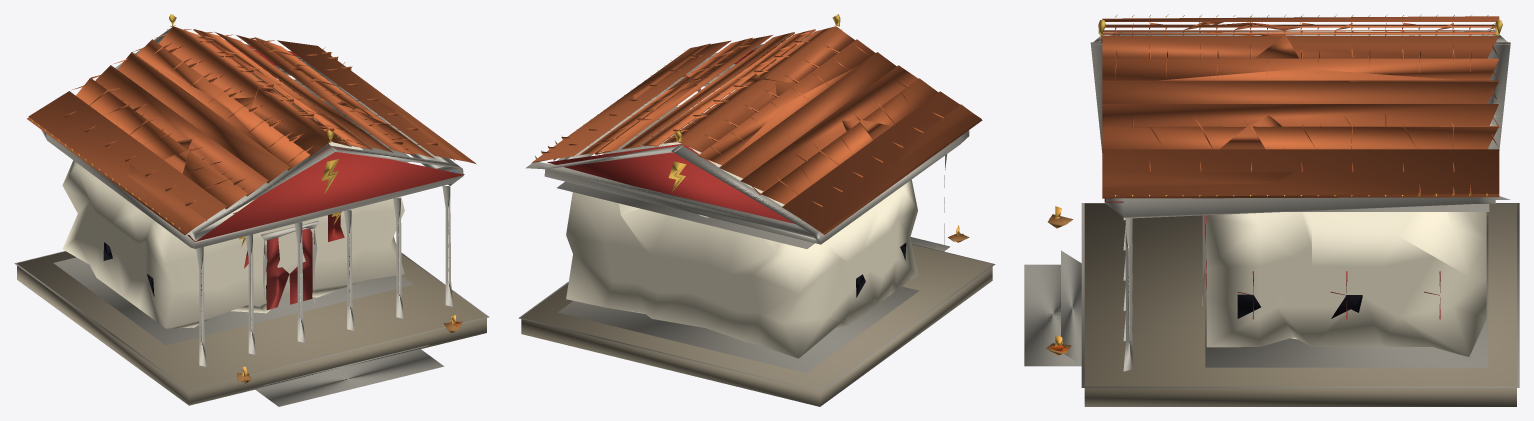
The model's file is civic_council-hall.glb.
3 views of the same model, side by side, from view 1: azimuth 30°, elevation 25°; view 2: azimuth 150°, elevation 25°; view 3: azimuth 270°, elevation 25° (orthographic). The views are drawn at different scales.
Parts seen in each view (by area): view 1: stone, cream, terracotta1, marble, terracotta0, terracotta2, paint_red, step, red_wood, gold; view 2: cream, terracotta1, stone, marble, terracotta0, terracotta2, paint_red, step, gold; view 3: stone, cream, terracotta1, terracotta0, terracotta2, marble, step, dark.
Boxes of the visible parts, <box> form: stone: <box>17,251,486,405</box>; cream: <box>62,118,404,328</box>; terracotta1: <box>28,29,475,234</box>; marble: <box>41,28,463,366</box>; terracotta0: <box>27,26,475,234</box>; terracotta2: <box>76,29,454,221</box>; paint_red: <box>188,40,464,241</box>; step: <box>14,251,489,406</box>; red_wood: <box>266,229,312,310</box>; gold: <box>31,14,352,247</box>; cream: <box>566,121,917,358</box>; terracotta1: <box>533,29,981,232</box>; stone: <box>521,244,992,406</box>; marble: <box>525,29,969,373</box>; terracotta0: <box>531,26,982,234</box>; terracotta2: <box>548,29,938,220</box>; paint_red: <box>547,45,795,223</box>; step: <box>518,237,995,391</box>; gold: <box>534,14,840,192</box>; stone: <box>1084,203,1516,406</box>; cream: <box>1206,212,1486,356</box>; terracotta1: <box>1101,16,1499,198</box>; terracotta0: <box>1102,16,1499,198</box>; terracotta2: <box>1102,25,1499,196</box>; marble: <box>1090,30,1510,371</box>; step: <box>1024,203,1519,387</box>; dark: <box>1237,294,1362,318</box>.
Bounding box in the file's own units: 12.36 × 9.18 × 13.98.
